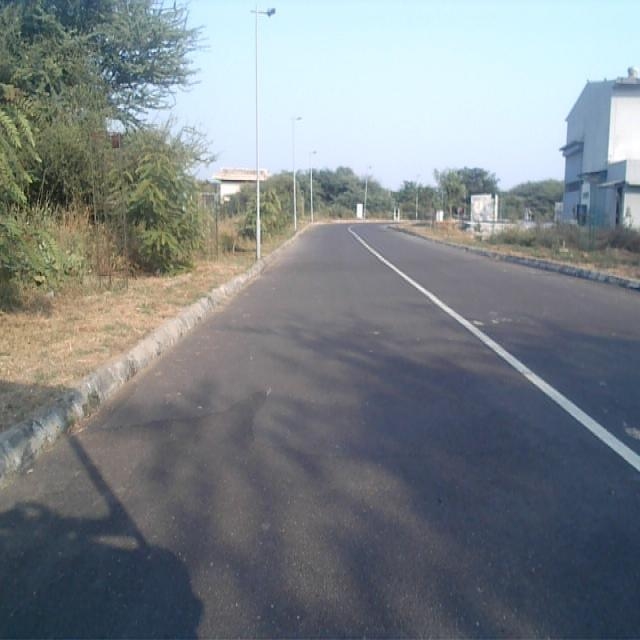lane: (0, 229, 640, 640)
